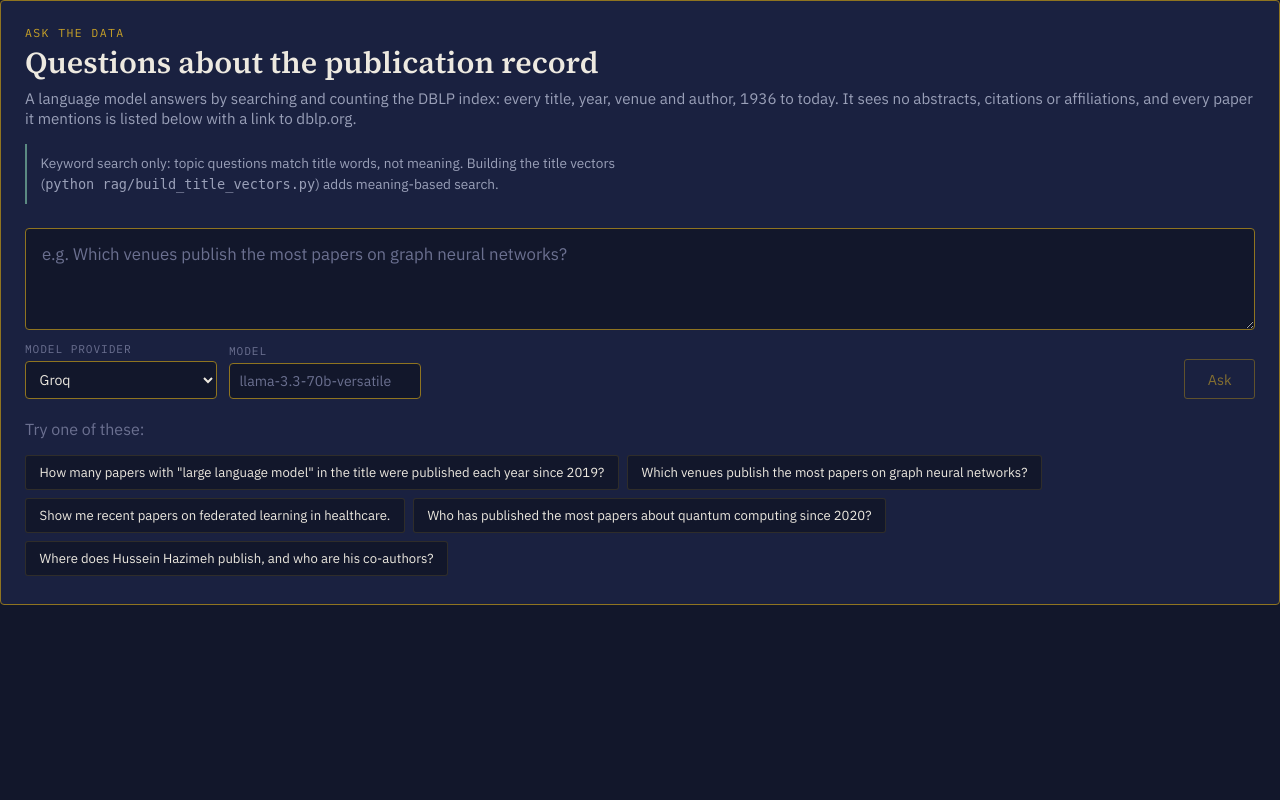
Test: AskPage › streams the answer, links citations to the sources and drops made-up ones
This screenshot has width=1280, height=800.
Type "federated learning in healthcare?" into the text box named "Your question". click: (640, 279)
box: [25, 228, 1255, 330]
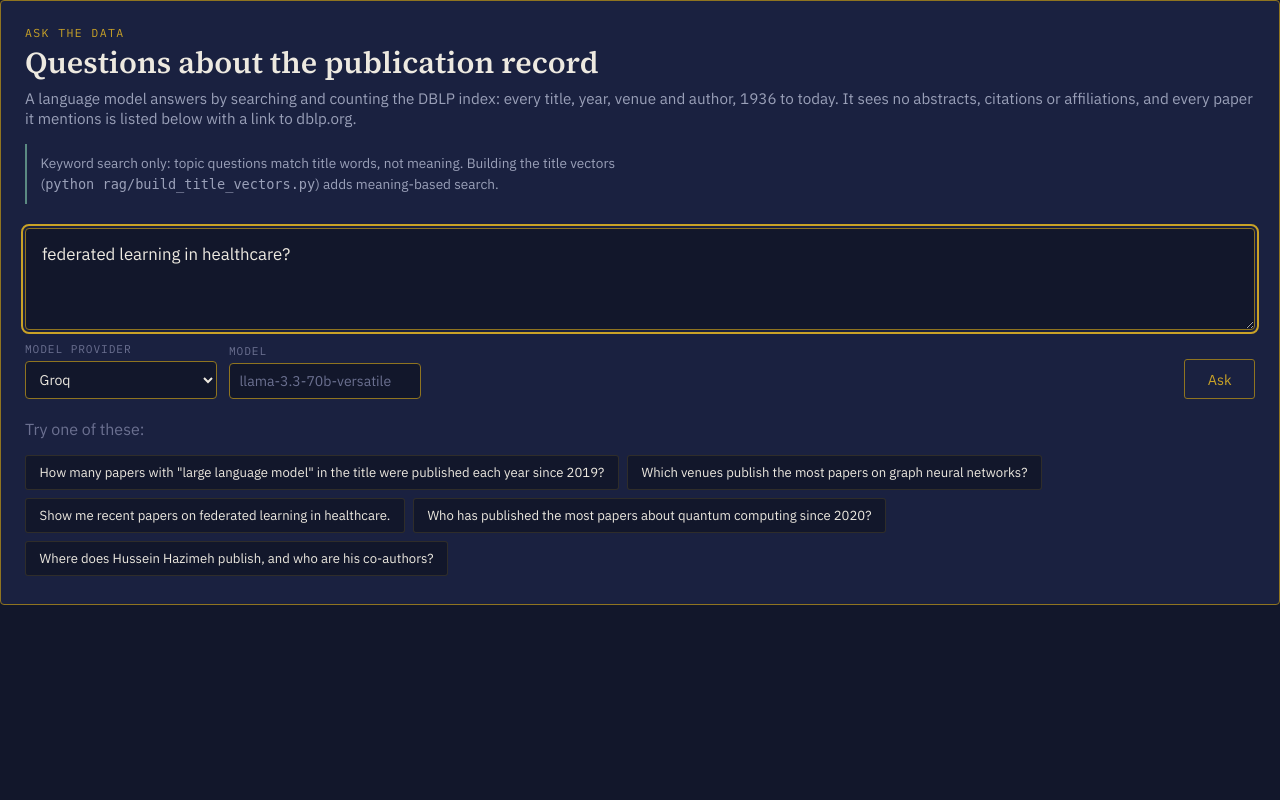
Click the button "Ask". click: (1220, 379)
box: [1184, 359, 1255, 400]
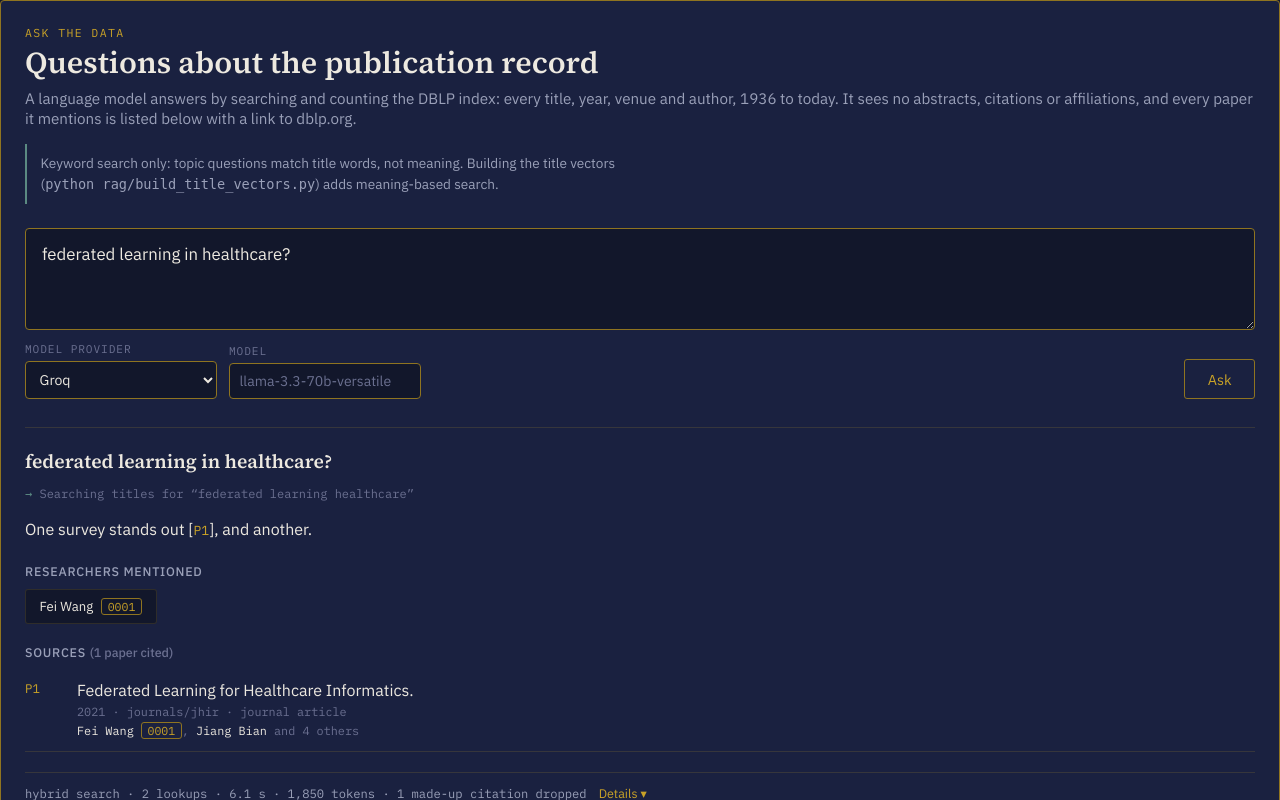
Check: the text "hybrid search · 2 lookups · 6.1 s · 1,850 tokens · 1 made-up citation dropped" is shown, box [25, 786, 587, 799]
Check: the list named "What the model looked up" reads "Searching titles for “federated learning healthcare”", box [39, 486, 414, 502]
Check: the text "One survey stands out [ P1 ], and another." is shown, box [25, 520, 312, 540]
